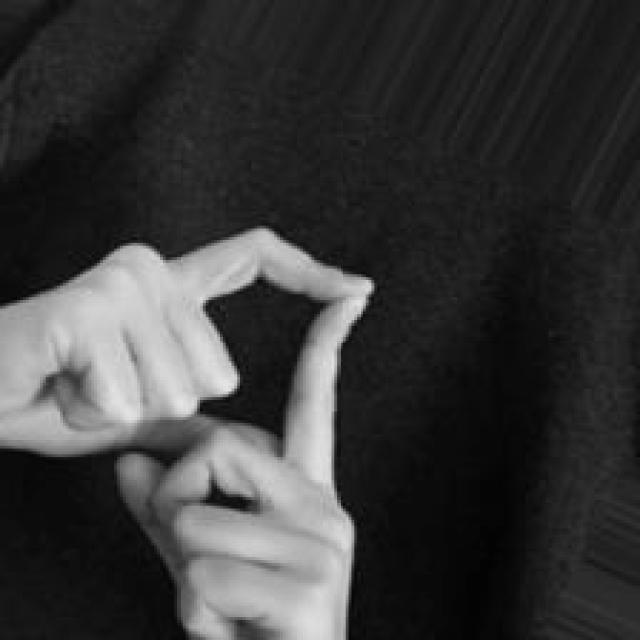D: (0, 219, 387, 640)
